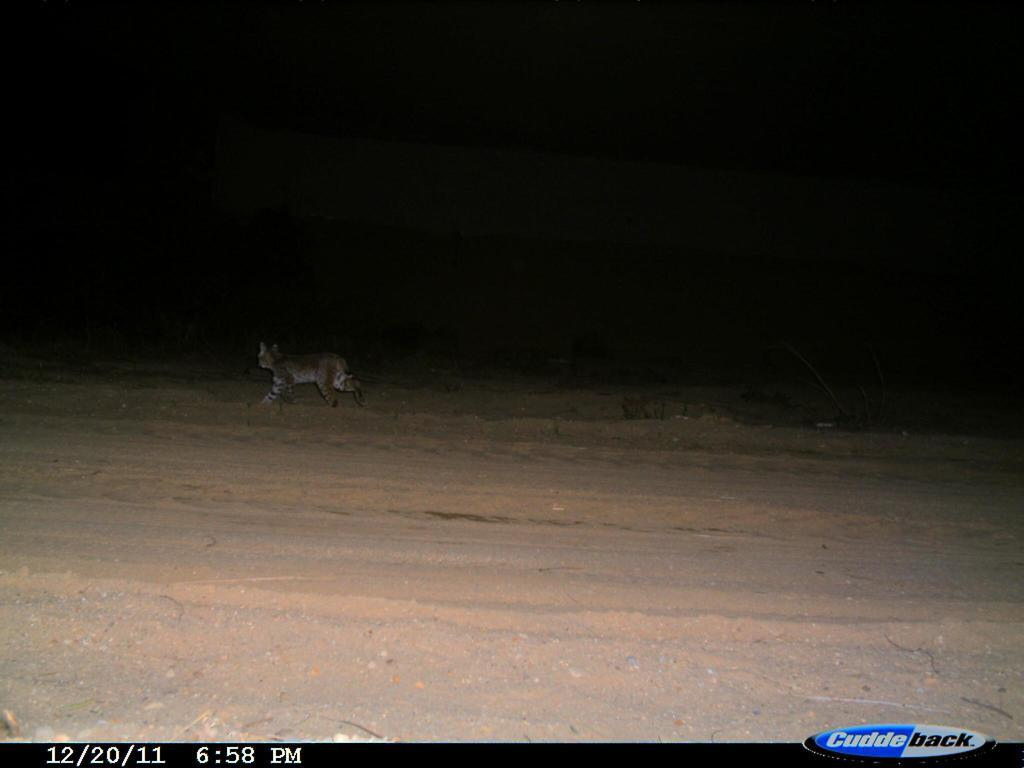bobcat: (241, 327, 381, 427)
